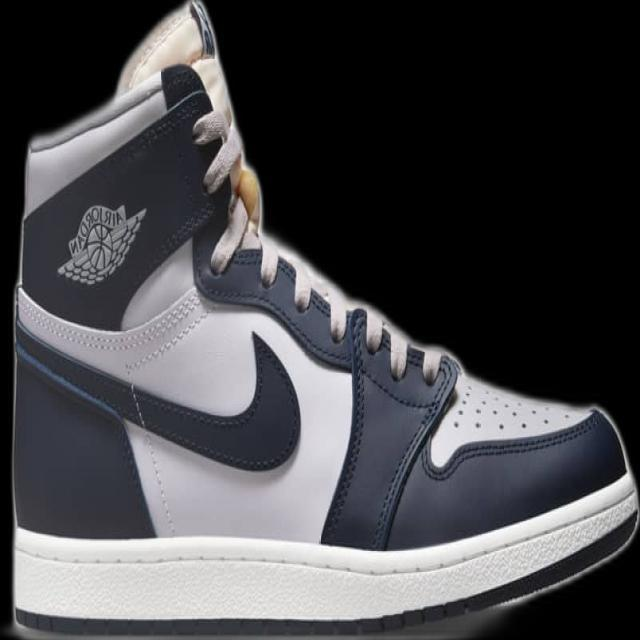J1_InsoleChar: (8, 0, 639, 639)
J1_ShoeLogo: (55, 201, 147, 287)
J1_StitchPattern: (124, 66, 593, 469), (11, 489, 639, 635), (195, 240, 595, 464), (15, 283, 209, 536), (319, 307, 459, 549), (272, 253, 439, 383), (122, 287, 205, 536), (14, 282, 207, 372), (189, 104, 281, 284), (319, 307, 372, 547), (424, 407, 602, 478), (123, 380, 180, 538), (444, 377, 579, 440), (120, 287, 207, 374), (190, 107, 241, 195), (363, 316, 429, 382), (143, 302, 201, 361), (184, 0, 219, 60)
